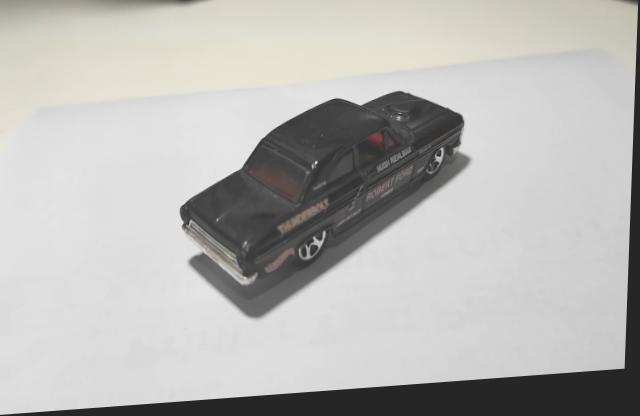01_FORD: (181, 99, 474, 324)
